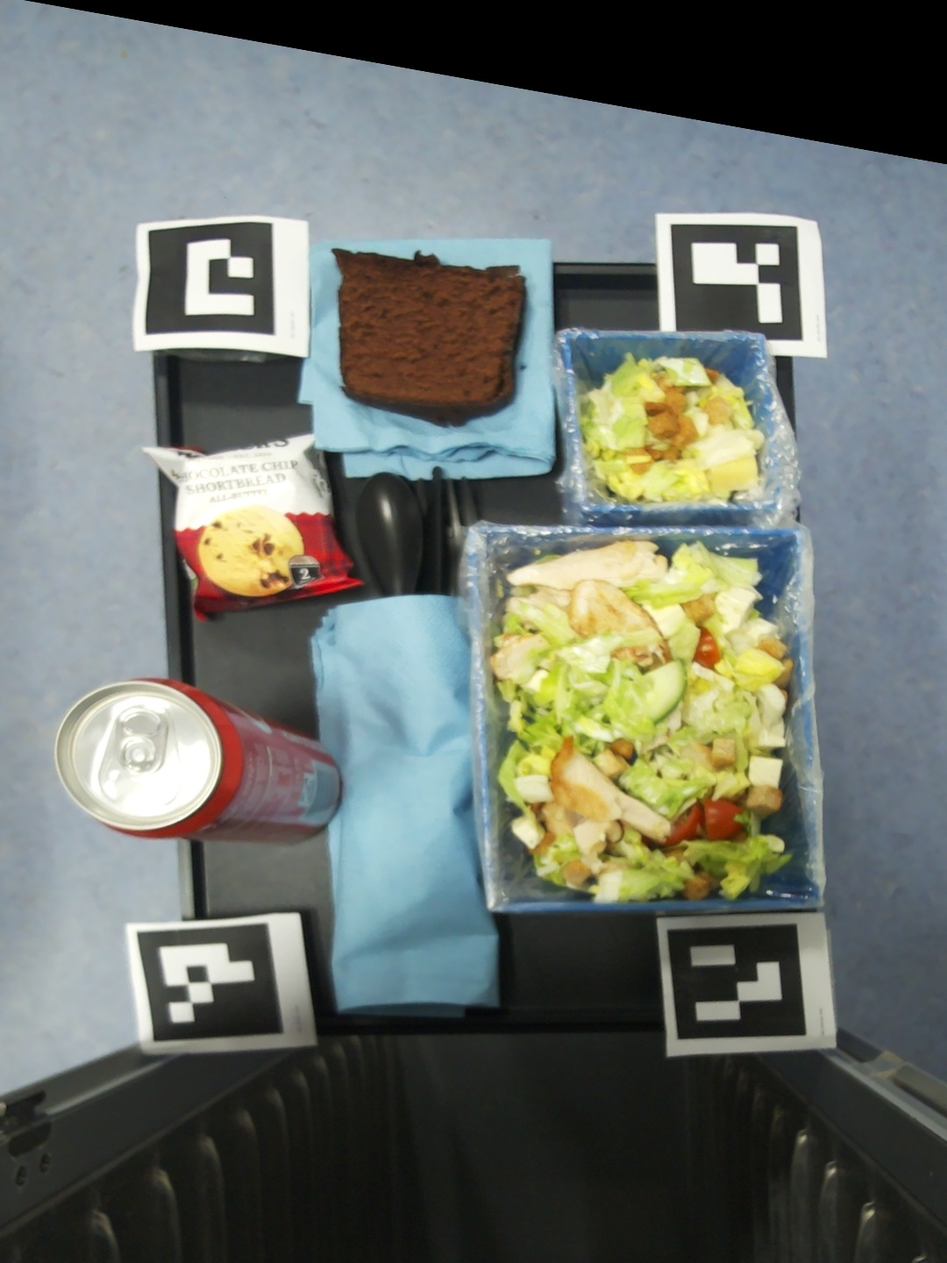brownie: (331, 249, 525, 424)
cola: (55, 677, 342, 843)
cookie: (142, 433, 366, 623)
salad_main: (489, 540, 795, 903)
side_salad: (576, 350, 766, 503)
